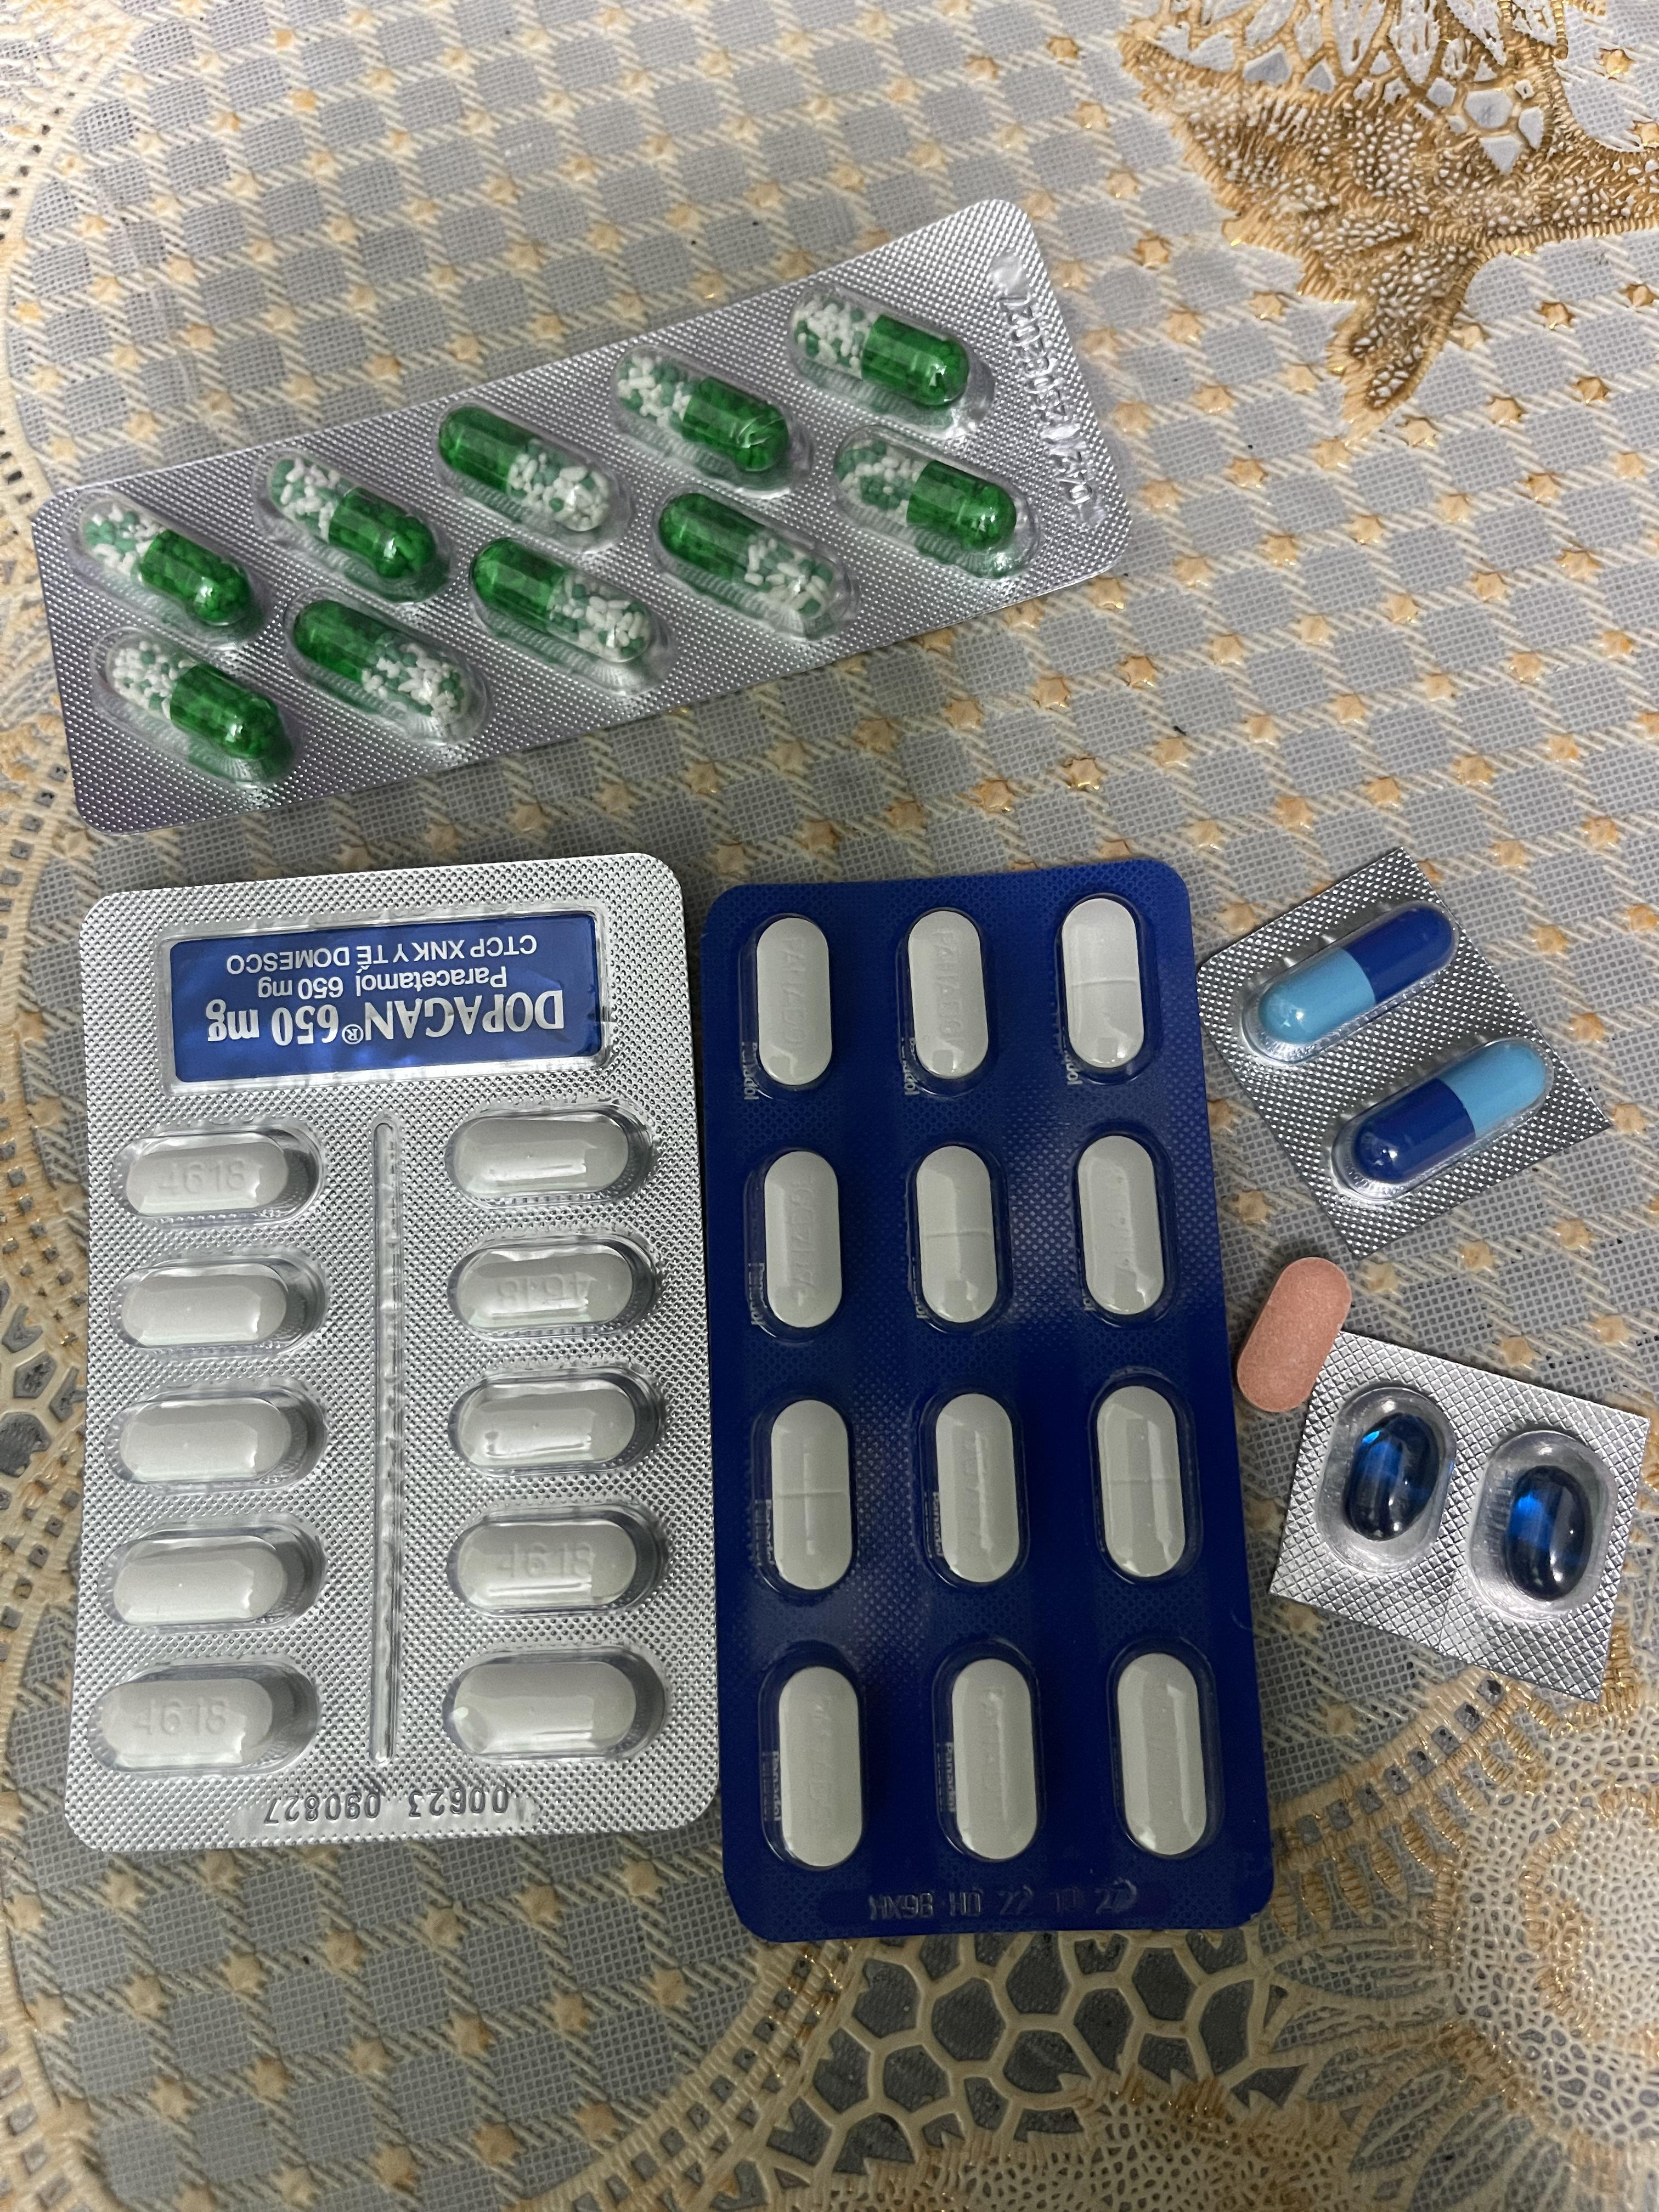Lincomyxin_500mg: (1342, 1414, 1438, 1543), (1502, 1467, 1591, 1602)
Loratadine_10mg: (1236, 1254, 1351, 1411)
Paracetamol_350mg: (931, 1642, 1044, 1872), (1107, 1639, 1220, 1867), (758, 1648, 868, 1881), (917, 1386, 1030, 1592), (1091, 1372, 1197, 1590), (906, 1143, 1007, 1331), (763, 1399, 857, 1599), (1073, 1130, 1171, 1320), (756, 1151, 845, 1339), (1058, 897, 1148, 1078), (903, 907, 992, 1090), (751, 914, 835, 1094)
Paracetamol_500mg: (89, 1660, 319, 1777), (443, 1648, 666, 1764), (103, 1517, 326, 1629), (446, 1503, 662, 1613), (110, 1383, 326, 1486), (448, 1369, 659, 1474), (450, 1237, 657, 1336), (110, 1252, 324, 1348), (113, 1123, 322, 1221), (444, 1104, 650, 1202)
Paracetamol_650mg: (73, 495, 272, 644), (835, 430, 1030, 578), (263, 453, 458, 599), (105, 639, 298, 779), (471, 540, 662, 678), (289, 601, 479, 737), (660, 495, 842, 629), (441, 406, 624, 536), (620, 355, 786, 479), (798, 298, 969, 415)
pill: (1351, 1038, 1549, 1191), (1258, 906, 1450, 1050)
